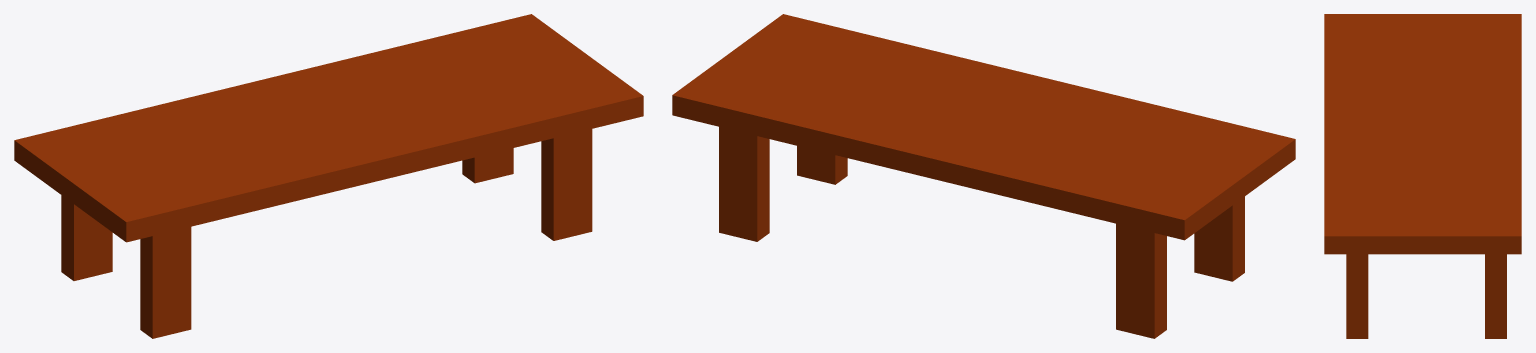
Rendered from bench.glb.
3 renders of one model, left to right at view 1: azimuth 30°, elevation 25°; view 2: azimuth 150°, elevation 25°; view 3: azimuth 270°, elevation 25°, orthographic. The views are drawn at different scales.
Parts seen in each view (by area): view 1: Untitled; view 2: Untitled; view 3: Untitled.
Part boxes in pixels (box(x1,y1,x2,y2)): Untitled: box(14, 14, 643, 338); Untitled: box(672, 14, 1295, 338); Untitled: box(1324, 14, 1521, 338).
Size of the model in its own units: 2 by 0.5 by 0.75.
1 material, 1 textured.
